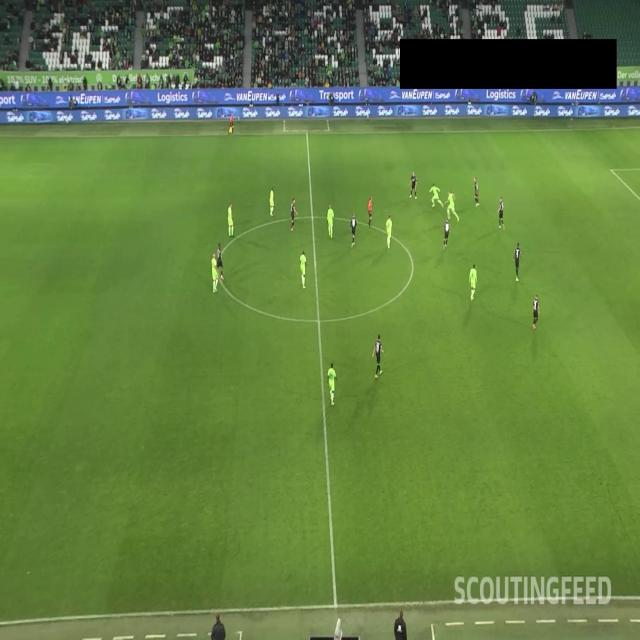Referee: (368, 196, 373, 228), (228, 112, 234, 136)
TEAM 1: (444, 190, 460, 223), (327, 363, 339, 406), (429, 184, 444, 208), (468, 264, 477, 301), (299, 250, 307, 290), (211, 255, 219, 294), (385, 215, 393, 250), (228, 203, 235, 238), (327, 205, 334, 239), (269, 188, 275, 217)
TEAM 2: (372, 334, 385, 378), (513, 242, 524, 282), (349, 213, 359, 249), (496, 198, 506, 230), (442, 218, 452, 250), (217, 242, 225, 281), (532, 293, 540, 330), (290, 198, 298, 232), (409, 171, 418, 200), (473, 178, 480, 208)
